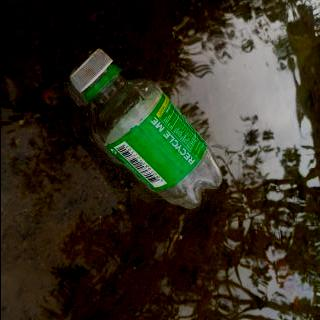bottle: (66, 47, 222, 209)
